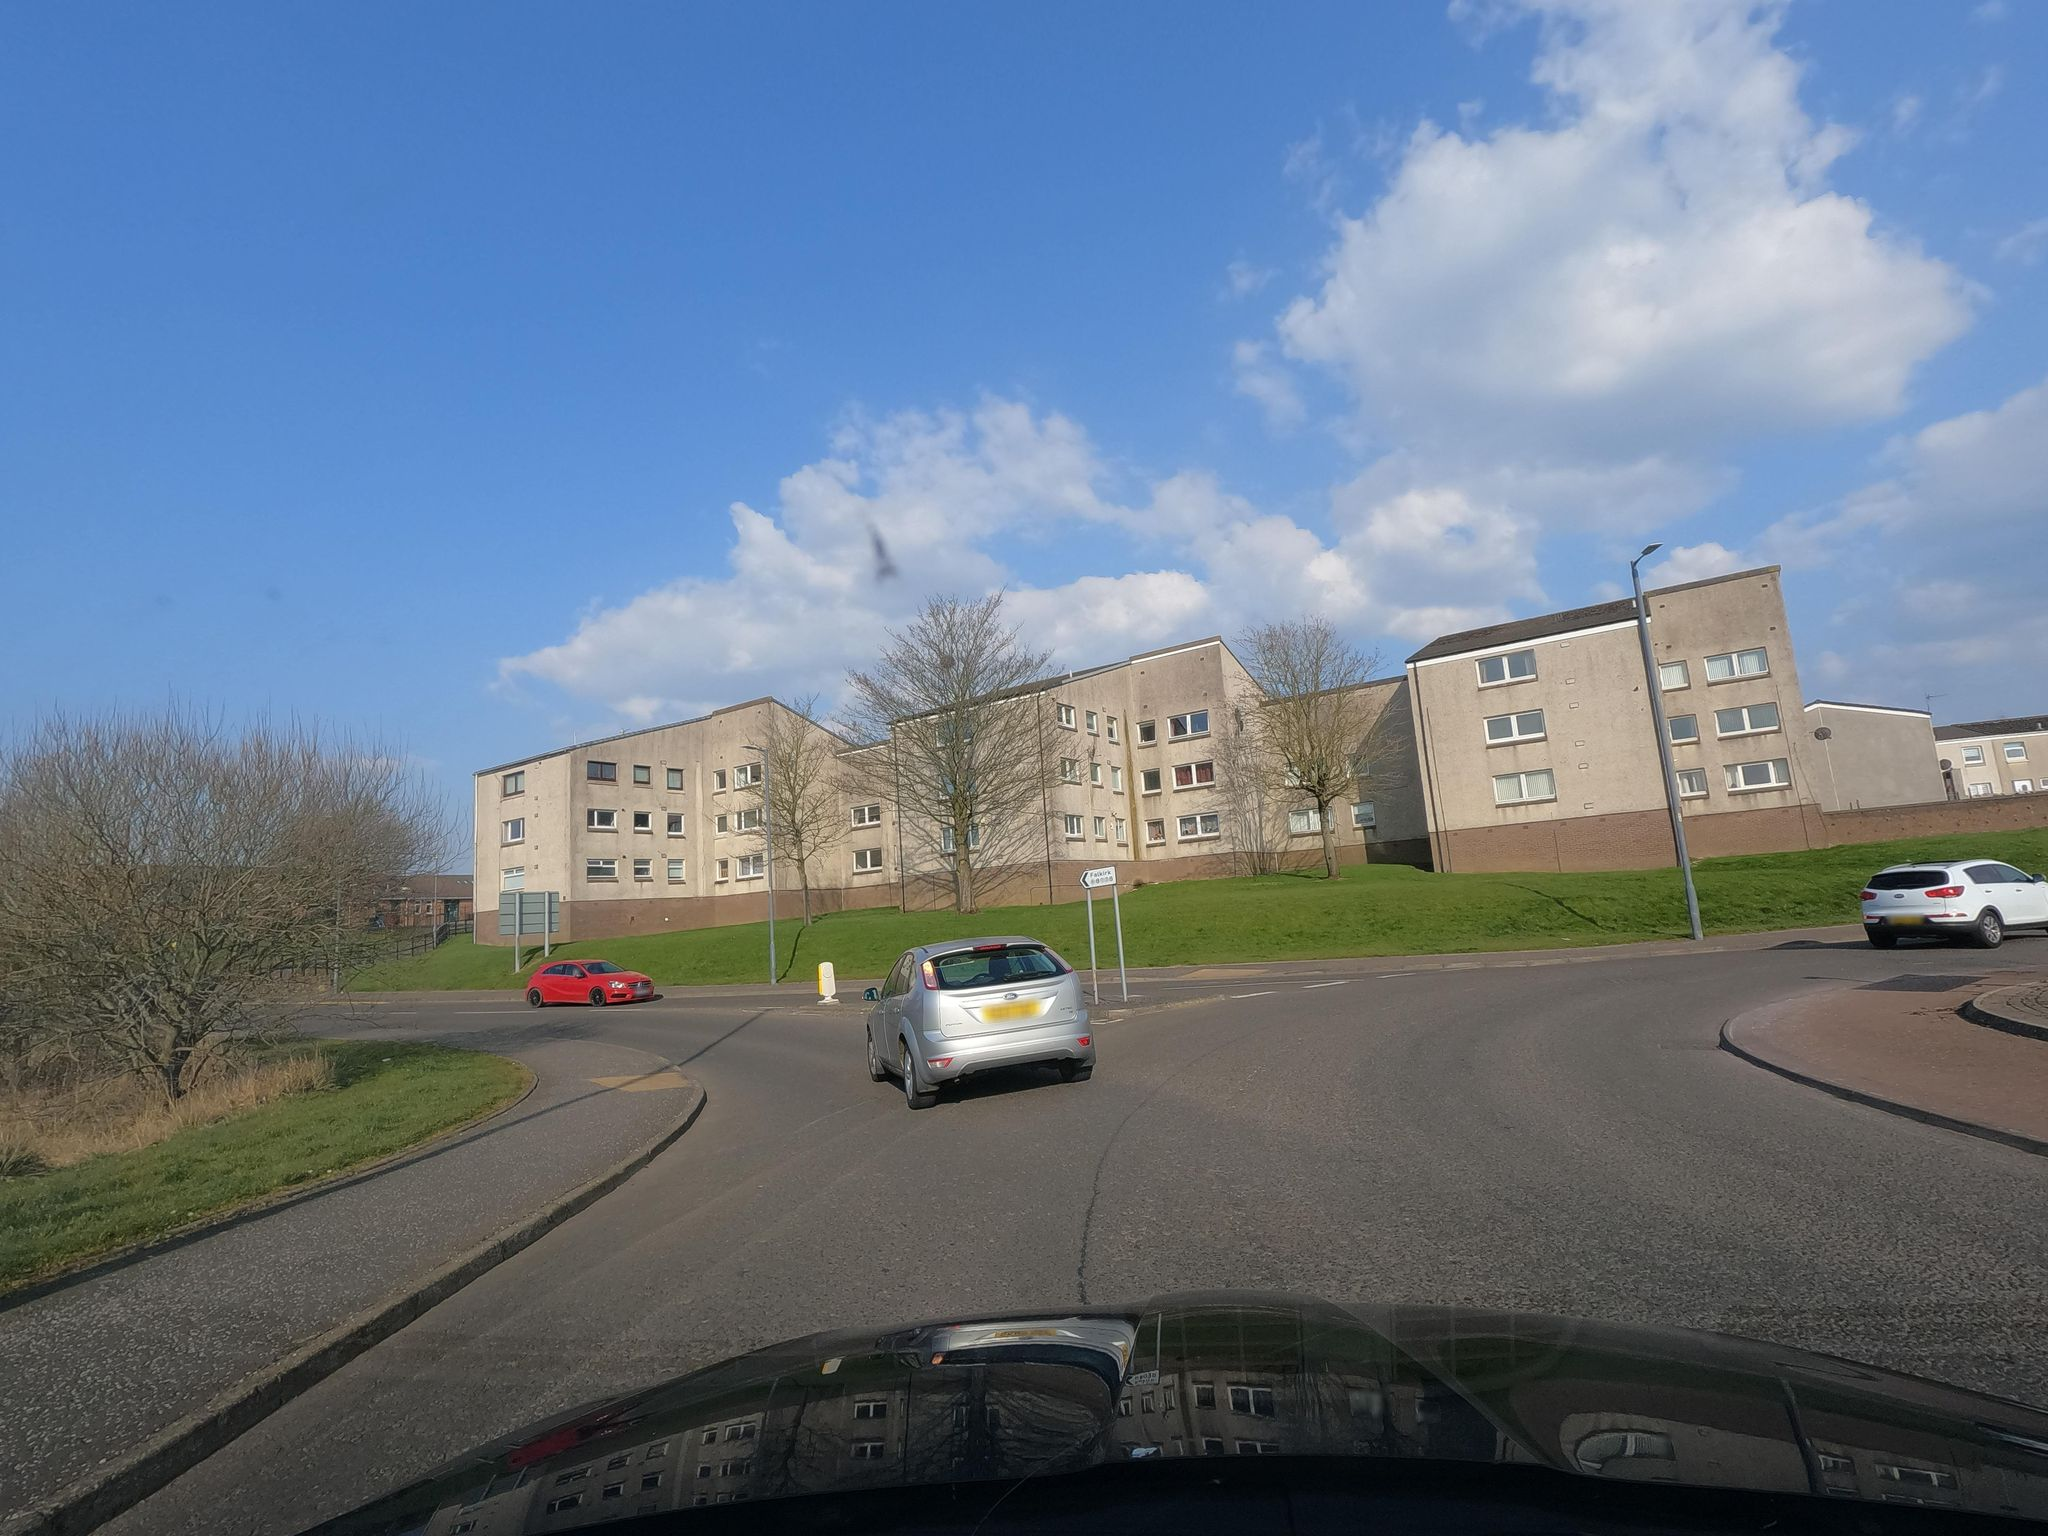car: (861, 933, 1098, 1110), (1859, 857, 2048, 949), (524, 958, 655, 1007)
